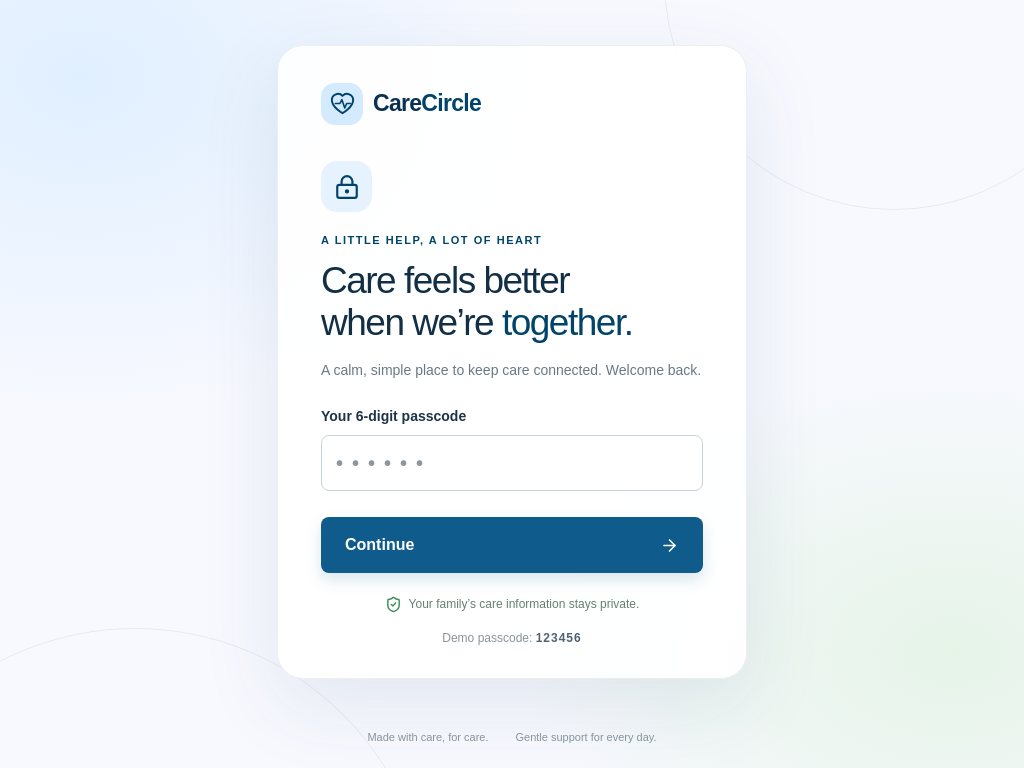
Test: passcode and role access › shows validation for an incorrect passcode
The image size is (1024, 768).
Type "111111" into the password field labelled "Your 6-digit passcode" at [512, 463], box [321,435,703,491]
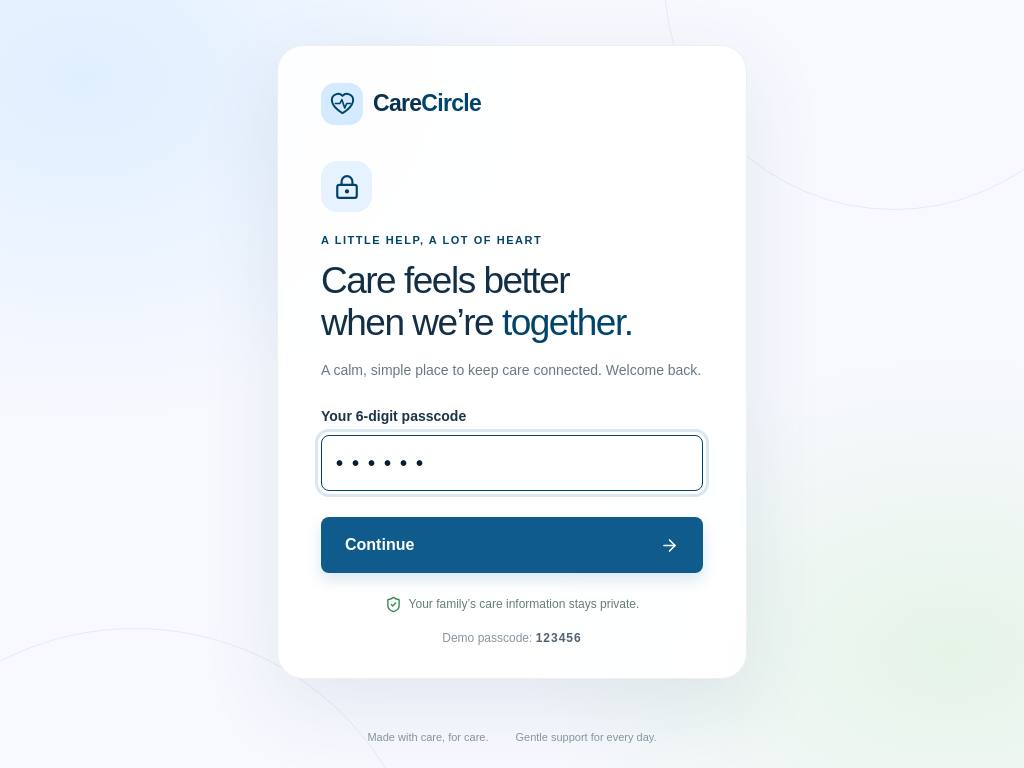
Click the button "Continue" at [380, 545], box [321,517,703,573]
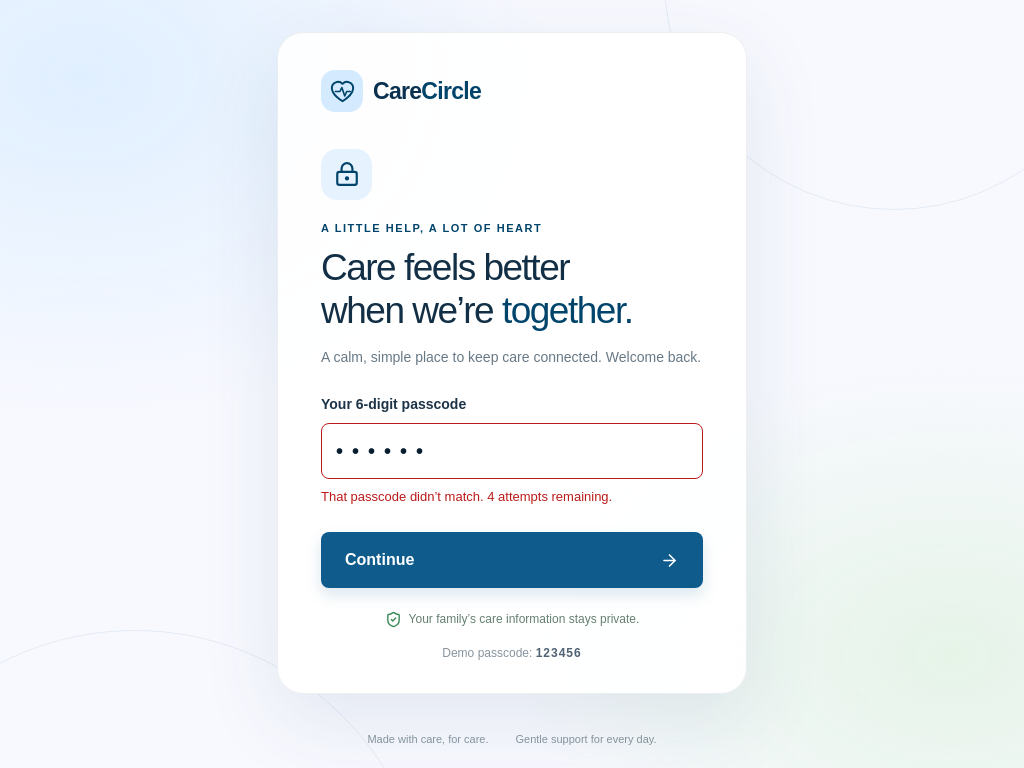
Expected: the text "That passcode didn’t match. 4 attempts remaining." is shown, [321,489,612,504]
